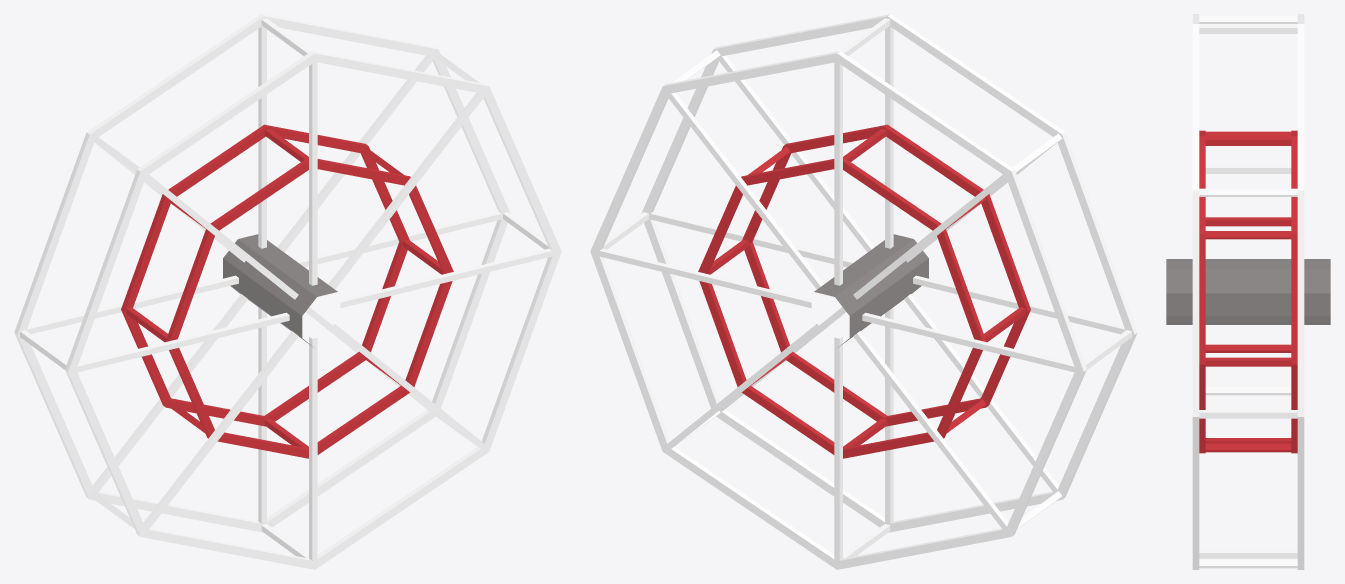
Rendered from ferris-wheel-main.glb.
3 views of the same model, side by side, from view 1: azimuth 30°, elevation 25°; view 2: azimuth 150°, elevation 25°; view 3: azimuth 270°, elevation 25° (orthographic). The views are drawn at different scales.
Visible parts, largest first — view 1: ferris-wheel-main; view 2: ferris-wheel-main; view 3: ferris-wheel-main.
Part boxes in pixels (x1,y1,x2,y2): ferris-wheel-main: (14,14,561,569); ferris-wheel-main: (590,14,1137,569); ferris-wheel-main: (1166,14,1330,569).
Bounding box in the file's own units: 18 × 18 × 5.
1 material, 1 textured.
